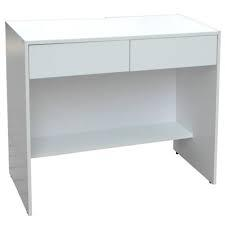desk: (3, 11, 221, 210)
